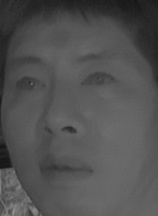eye: (79, 68, 120, 91), (11, 73, 49, 95)
mouth: (37, 152, 93, 186)
